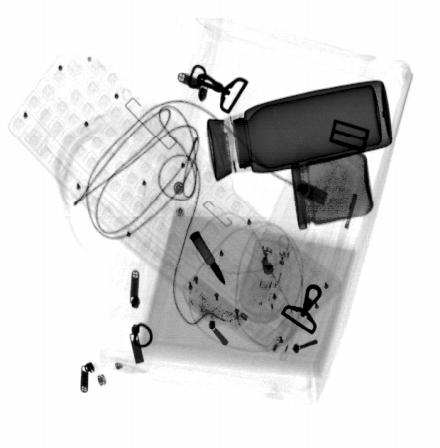Bullet: (189, 230, 227, 287)
